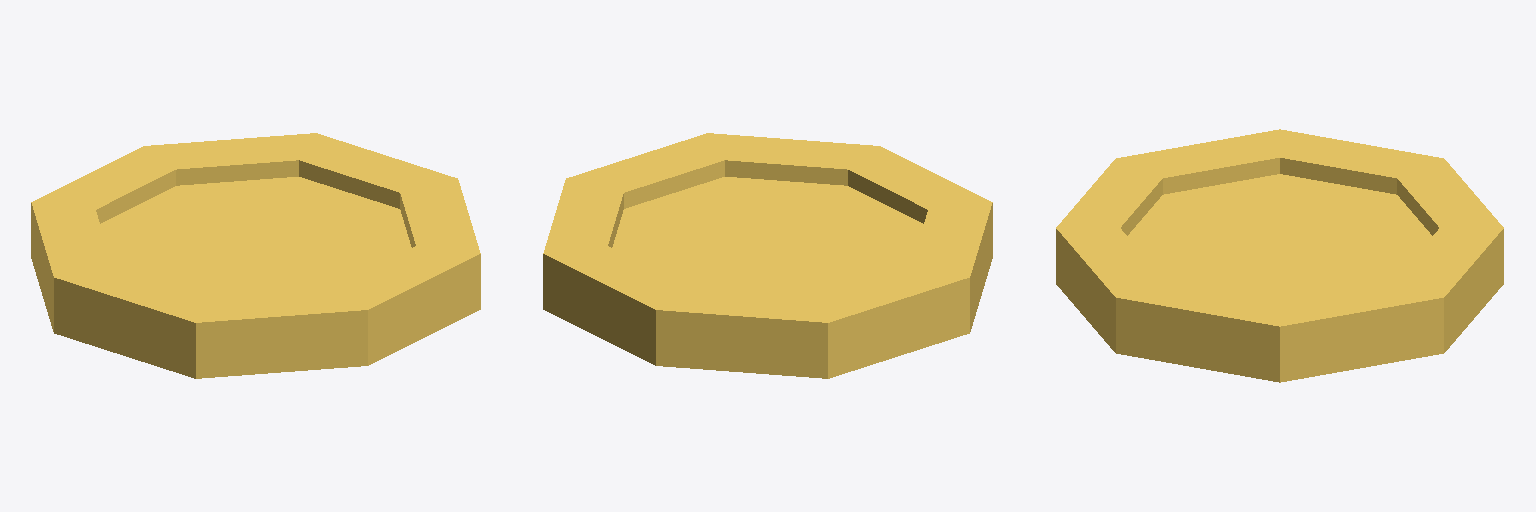
3 renders of one model, left to right at view 1: azimuth 30°, elevation 25°; view 2: azimuth 150°, elevation 25°; view 3: azimuth 270°, elevation 25°, orthographic.
Visible parts, largest first — view 1: Cube.002_Cube; view 2: Cube.002_Cube; view 3: Cube.002_Cube.
Part boxes in pixels (x1,y1,x2,y2): Cube.002_Cube: (31,133,480,378); Cube.002_Cube: (543,133,992,378); Cube.002_Cube: (1056,129,1503,382).
Bounding box in the file's own units: 0.2789 × 0.0369 × 0.2676.
1 materials, 1 textured.